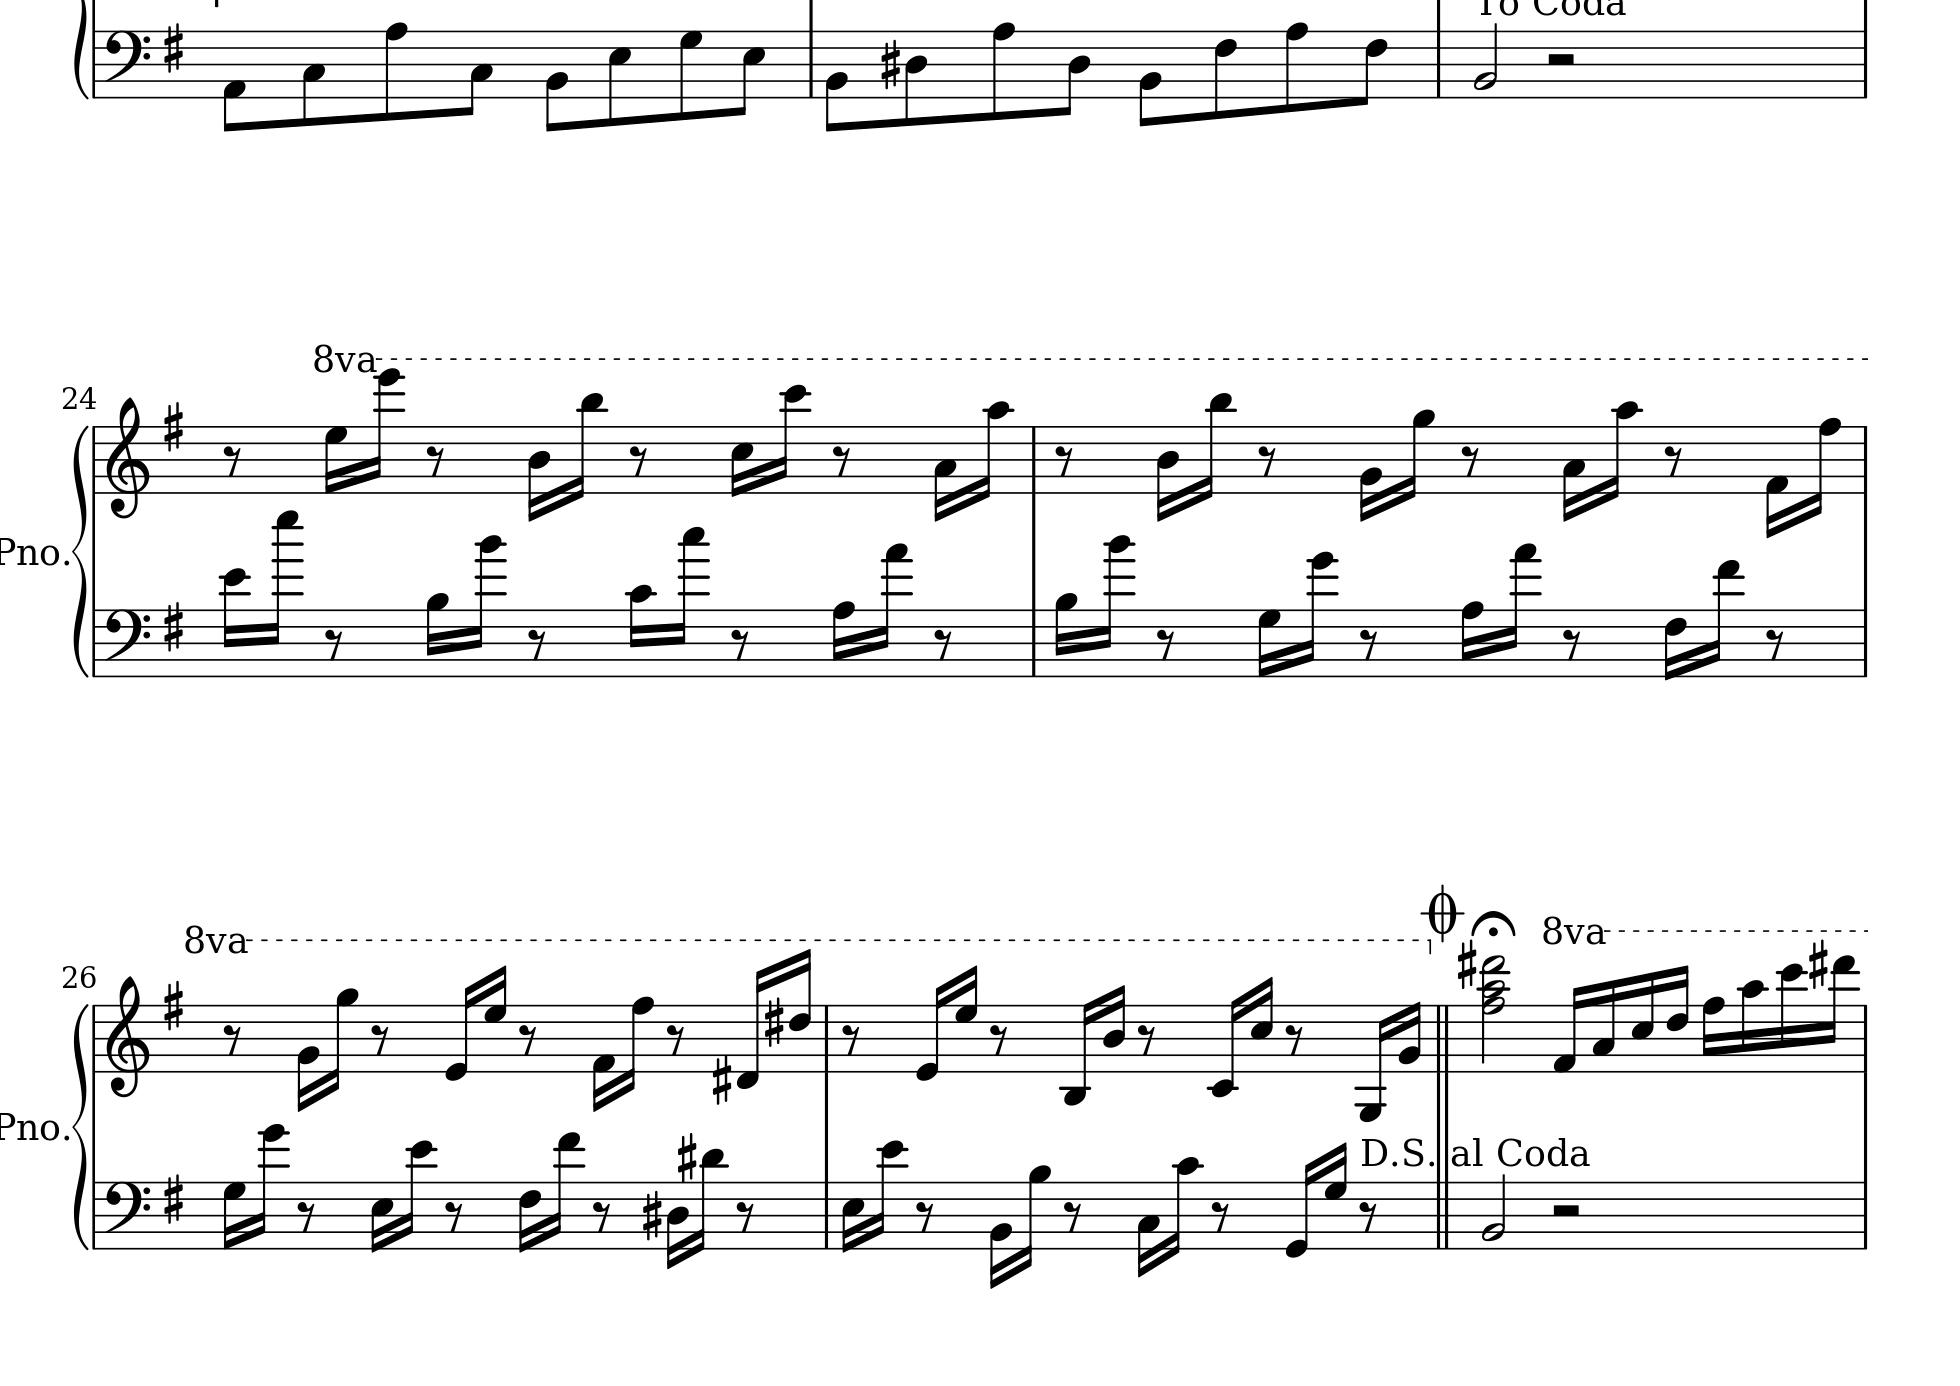16_-1: (735, 970, 762, 1090)
16_-2: (1209, 991, 1243, 1098)
16_-3: (1060, 999, 1096, 1107)
16_-4: (1356, 1003, 1392, 1123)
16_0: (442, 981, 477, 1083), (913, 982, 948, 1083), (1284, 1158, 1317, 1260)
16_1: (1551, 984, 1587, 1075), (1764, 421, 1789, 538), (591, 1003, 615, 1111)
16_10: (1603, 400, 1641, 501), (1165, 1155, 1201, 1257), (976, 400, 1011, 501), (625, 582, 654, 678), (1740, 978, 1767, 1074)
16_11: (567, 391, 606, 502), (1197, 391, 1233, 502), (693, 1147, 724, 1252)
16_12: (769, 382, 808, 495), (868, 1138, 906, 1249), (399, 1138, 435, 1249), (220, 565, 249, 676), (1777, 961, 1804, 1075)
16_13: (1707, 556, 1744, 678), (547, 1129, 582, 1251), (1824, 954, 1858, 1074)
16_14: (1299, 549, 1338, 679), (366, 367, 403, 493), (252, 1122, 286, 1252)
16_15: (873, 544, 910, 678), (1503, 544, 1540, 678)
16_16: (1095, 534, 1134, 678), (466, 534, 505, 676)
16_17: (670, 526, 706, 676)
16_19: (261, 511, 304, 679)
16_2: (987, 1179, 1014, 1288), (295, 1002, 319, 1110), (1357, 424, 1383, 522), (1398, 1000, 1423, 1074)
16_3: (1590, 978, 1617, 1074), (1135, 1179, 1161, 1279), (931, 423, 957, 522), (1561, 424, 1587, 522)
16_4: (525, 423, 550, 522), (1155, 423, 1180, 522), (1101, 982, 1128, 1072), (664, 1182, 688, 1269)
16_5: (1630, 967, 1656, 1074), (1249, 975, 1275, 1072), (727, 423, 754, 498), (838, 1179, 865, 1252), (367, 1180, 394, 1252)
16_6: (787, 951, 814, 1077), (1665, 963, 1690, 1075), (1662, 606, 1689, 682), (516, 1179, 541, 1254)
16_7: (952, 963, 979, 1074), (483, 964, 508, 1074), (1323, 1141, 1348, 1251), (1255, 604, 1281, 679), (220, 1177, 246, 1252), (322, 421, 346, 496)
16_8: (1806, 415, 1840, 517), (619, 996, 652, 1092), (1701, 993, 1726, 1074), (829, 598, 855, 678), (1459, 598, 1483, 679)
16_9: (1017, 1162, 1051, 1269), (324, 987, 358, 1092), (1401, 406, 1434, 501), (424, 589, 448, 679), (1053, 589, 1077, 678)
2: (60, 963, 79, 990), (60, 384, 78, 411)
2_2: (1480, 1171, 1509, 1249), (1473, 21, 1500, 99)
2_th: (1479, 949, 1510, 1071)
4: (78, 382, 97, 412)
6: (79, 961, 97, 988)
8_1: (220, 28, 247, 133)
8_2: (543, 28, 568, 133), (823, 28, 849, 133), (1137, 28, 1162, 127)
8_3: (459, 28, 493, 117), (300, 28, 327, 127)
8_4: (1056, 28, 1092, 117), (903, 27, 928, 127)
8_5: (733, 28, 766, 117), (604, 28, 631, 127)
8_6: (1354, 28, 1389, 108), (1212, 27, 1239, 121)
8_7: (676, 28, 703, 121)
8_8: (379, 19, 408, 124), (987, 19, 1015, 123), (1281, 19, 1308, 114)
Brace: (70, 1000, 90, 1251), (70, 423, 88, 676)
Coda: (1422, 882, 1464, 940)
Double_barline: (1434, 1003, 1455, 1071), (1432, 1180, 1453, 1248)
Fclef: (100, 1177, 151, 1249), (100, 28, 151, 99), (102, 606, 151, 678)
Fermata_above: (1470, 909, 1516, 939)
Gclef: (103, 394, 153, 520), (103, 973, 151, 1098)
Pno: (1, 1108, 60, 1144), (1, 534, 61, 568)
Rests2: (1542, 49, 1579, 69), (1548, 1201, 1584, 1219)
Rests8: (322, 625, 345, 661), (729, 625, 751, 661), (1561, 625, 1584, 661), (1357, 625, 1380, 660), (1357, 1198, 1380, 1233), (424, 442, 445, 478), (1459, 442, 1480, 478), (1155, 625, 1176, 661), (1137, 1021, 1158, 1057), (1210, 1198, 1231, 1234), (1257, 442, 1278, 477), (1662, 442, 1683, 477), (526, 625, 547, 660), (931, 625, 952, 660), (1764, 625, 1785, 660), (591, 1198, 612, 1233), (664, 1021, 685, 1056), (913, 1198, 934, 1233), (1062, 1198, 1083, 1233), (1284, 1021, 1305, 1056), (628, 442, 648, 478), (841, 1021, 861, 1057), (222, 442, 243, 475), (222, 1021, 243, 1054), (295, 1198, 316, 1231), (442, 1198, 463, 1231), (733, 1198, 754, 1231), (831, 442, 850, 477), (1054, 442, 1074, 477), (370, 1021, 390, 1056), (517, 1021, 537, 1056), (988, 1021, 1008, 1056)
Sharp: (159, 598, 187, 655), (160, 19, 186, 76), (160, 399, 186, 454), (160, 1171, 186, 1227), (160, 979, 184, 1033), (879, 37, 901, 91), (640, 1189, 663, 1242), (709, 1054, 732, 1107), (763, 994, 784, 1048), (676, 1131, 697, 1183), (1458, 937, 1477, 990), (1809, 939, 1828, 991)
Single_barline: (1026, 609, 1044, 675), (817, 1182, 835, 1248), (1431, 28, 1447, 97), (1857, 1180, 1873, 1248), (802, 30, 819, 96), (1857, 31, 1873, 97), (1026, 426, 1042, 492), (87, 1005, 103, 1071), (1857, 610, 1873, 675), (819, 1006, 835, 1069), (1858, 424, 1873, 493), (1858, 1003, 1873, 1072), (88, 609, 102, 676), (88, 1180, 102, 1248), (88, 31, 102, 97), (88, 426, 102, 492)
